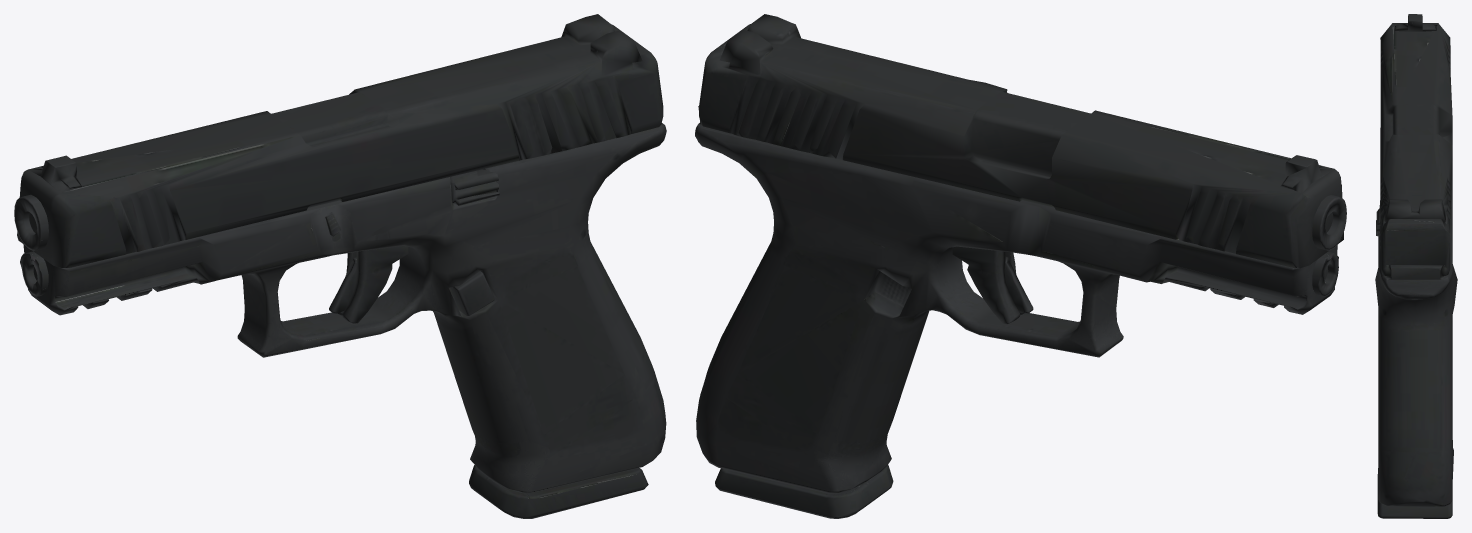
File: arma_pistola.glb
The picture shows the model from 3 angles, left to right: view 1: azimuth 30°, elevation 25°; view 2: azimuth 150°, elevation 25°; view 3: azimuth 270°, elevation 25°; orthographic projection. The views are drawn at different scales.
Size of the model in its own units: 0.9561 by 0.6494 by 0.1552.
Materials: 1 (1 with a texture image).
